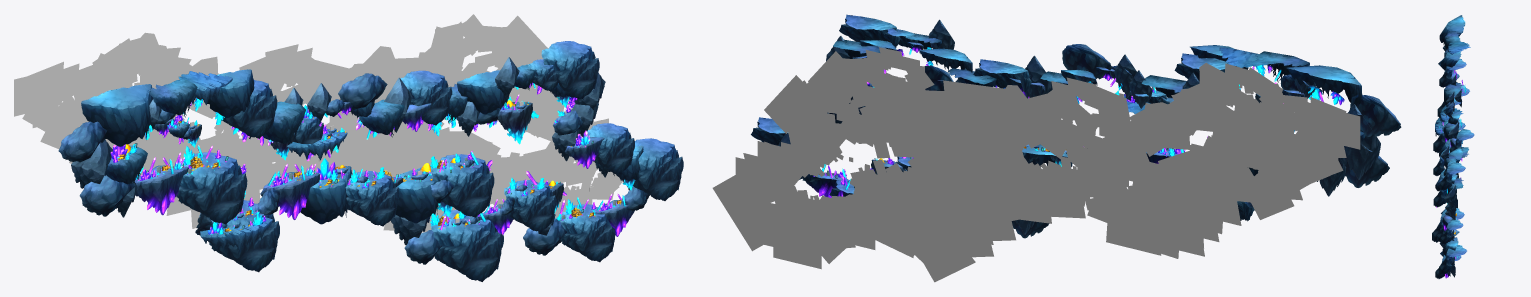
The model's file is Level6_Export.fbx.
3 renders of one model, left to right at view 1: azimuth 30°, elevation 25°; view 2: azimuth 150°, elevation 25°; view 3: azimuth 270°, elevation 25°, orthographic. The views are drawn at different scales.
Parts seen in each view (by area): view 1: Active, Mid, Background, Far; view 2: Far, Active, Mid, Background; view 3: Active.
Boxes of the visible parts, <box> form: Active: <box>58,41,683,281</box>; Mid: <box>54,44,622,232</box>; Background: <box>32,31,608,211</box>; Far: <box>14,14,593,176</box>; Far: <box>712,74,1322,282</box>; Active: <box>751,14,1401,238</box>; Mid: <box>757,47,1360,244</box>; Background: <box>735,66,1338,257</box>; Active: <box>1432,15,1474,278</box>.
Size of the model in its own units: 23869 by 9775 by 5360.
